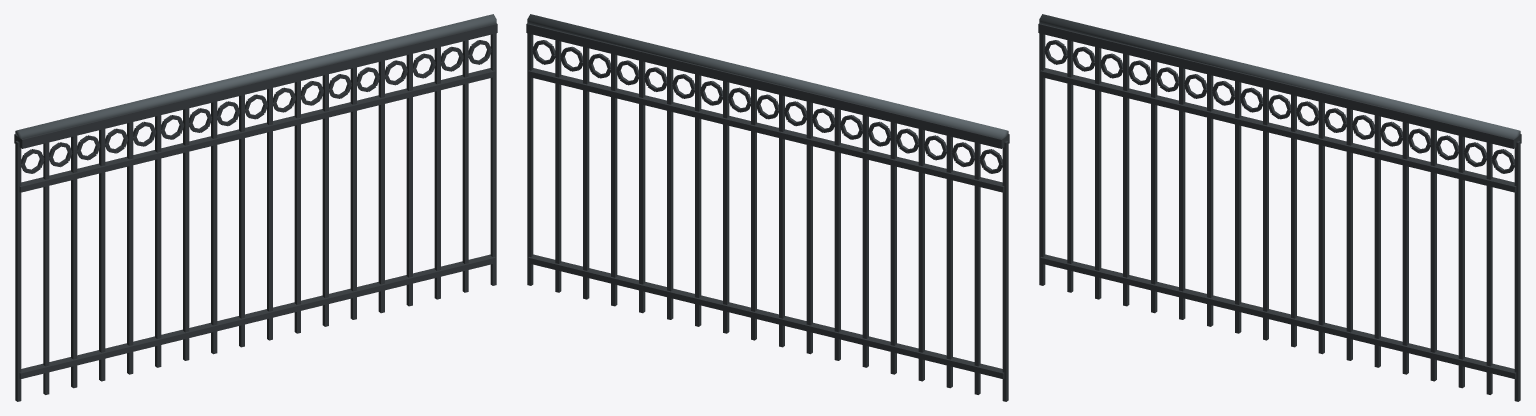
3 renders of one model, left to right at view 1: azimuth 30°, elevation 25°; view 2: azimuth 150°, elevation 25°; view 3: azimuth 330°, elevation 25°, orthographic.
Parts seen in each view (by area): view 1: house_paint; view 2: house_paint; view 3: house_paint.
Boxes of the visible parts, <box> form: house_paint: <box>14,14,497,401</box>; house_paint: <box>526,14,1009,401</box>; house_paint: <box>1038,14,1521,401</box>.
Bounding box in the file's own units: 1.94 × 1.05 × 0.055.
Materials: 1 (1 with a texture image).
